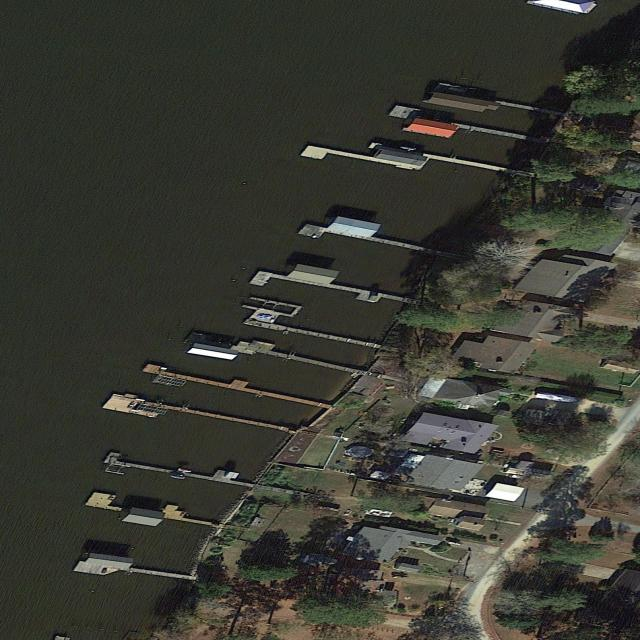ship: (531, 390, 580, 404)
